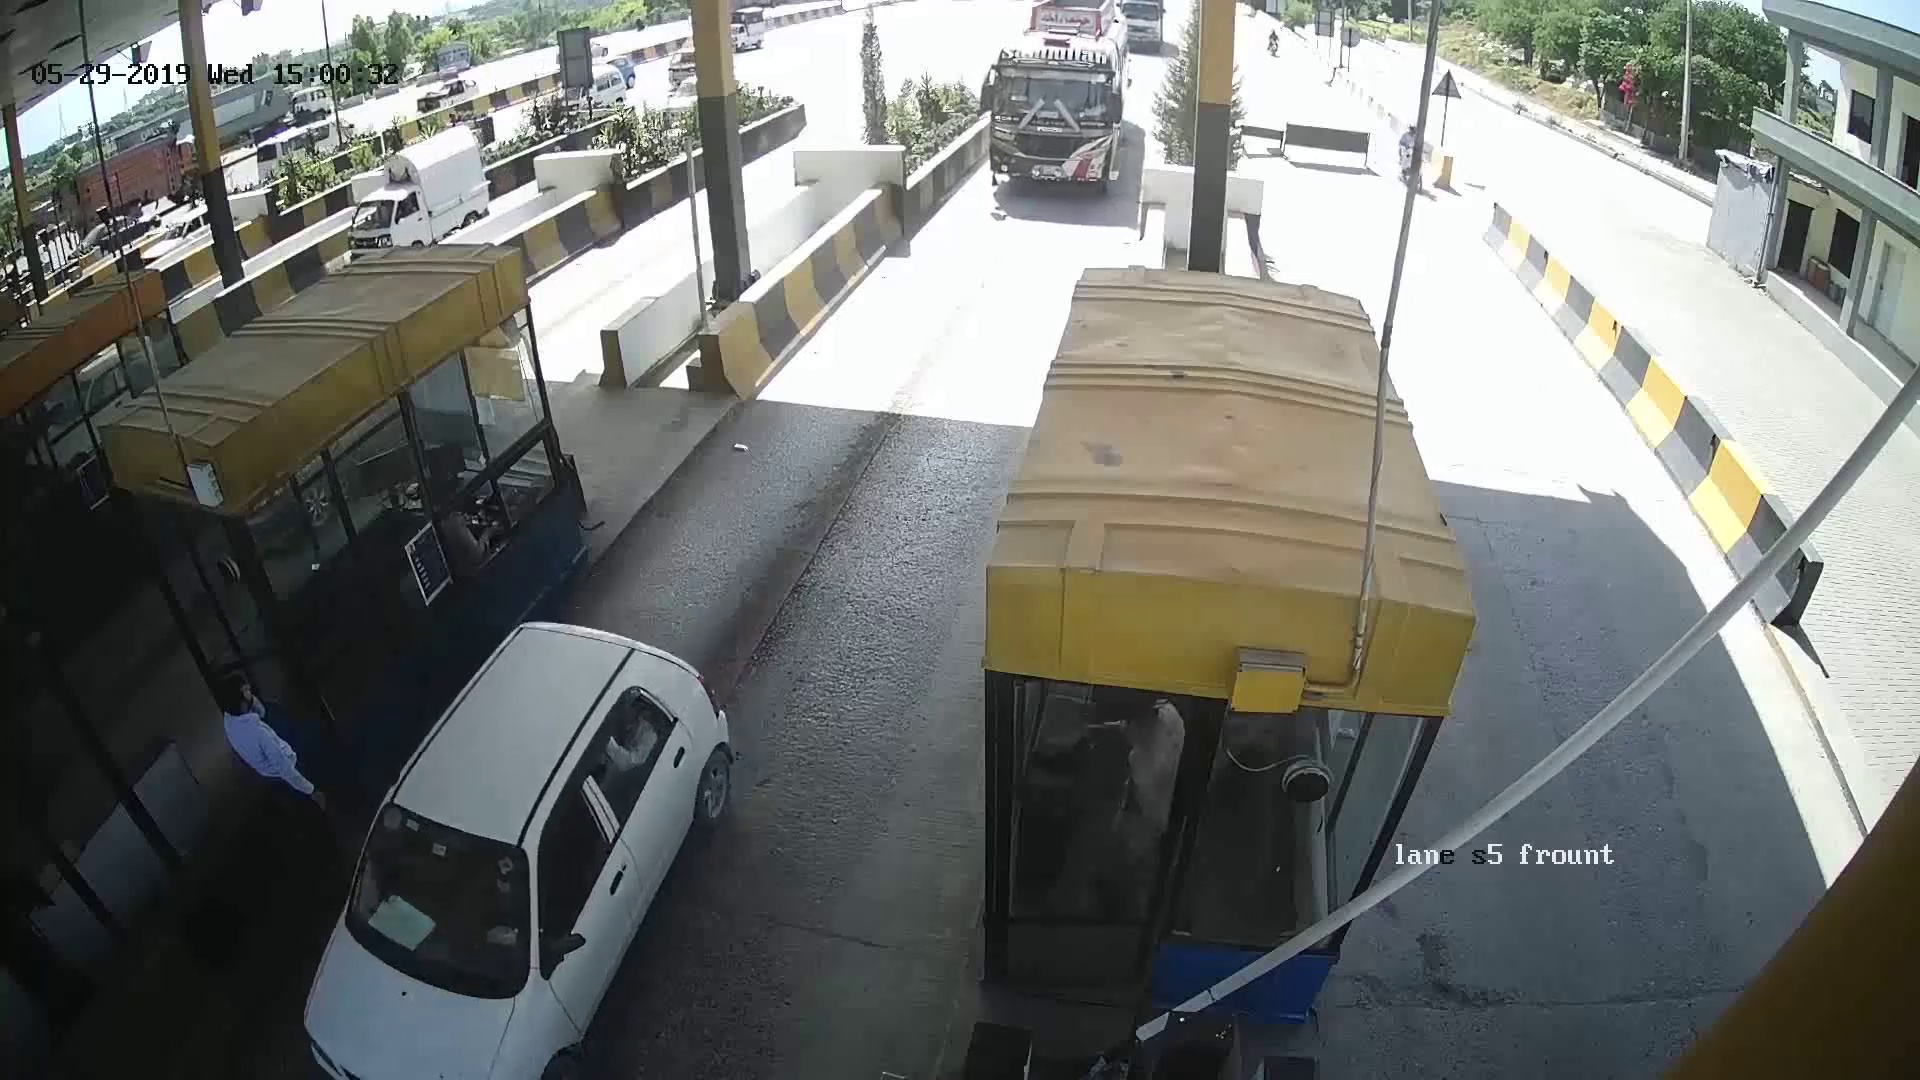bus: (967, 25, 1145, 222)
car: (335, 658, 694, 1071)
